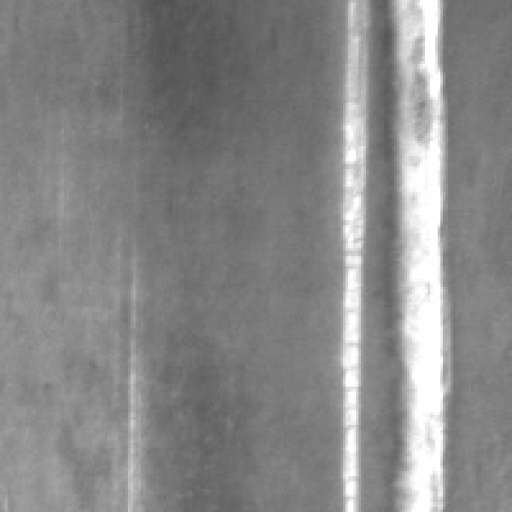scratches: (376, 3, 454, 511), (331, 3, 376, 512), (105, 233, 151, 512)
